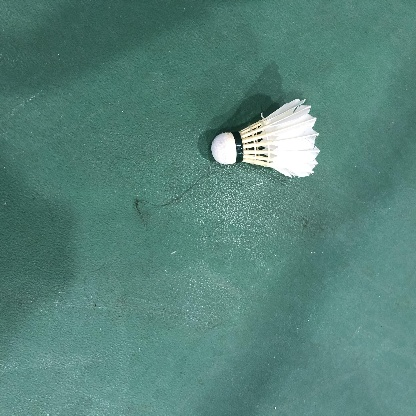ball_single: (211, 98, 320, 178)
